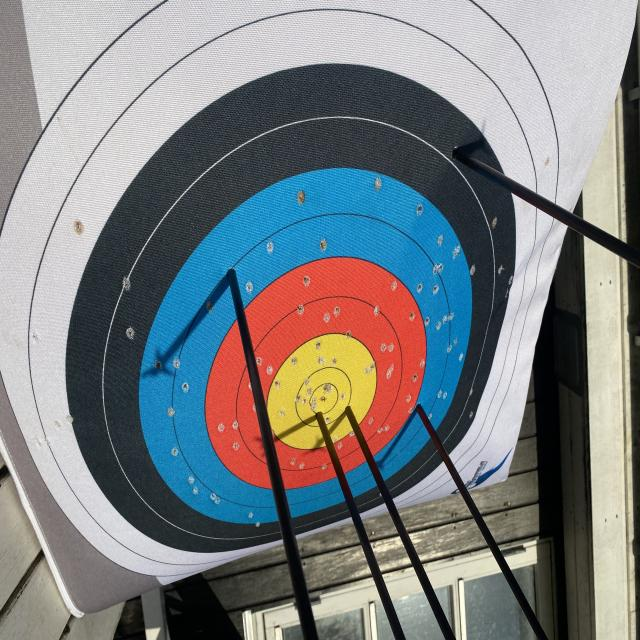Arrow_Black: (444, 133, 476, 178)
Arrow_Blue: (216, 258, 248, 311), (405, 389, 429, 428)
Arrow_Yellow: (342, 397, 365, 438), (312, 402, 328, 436)
